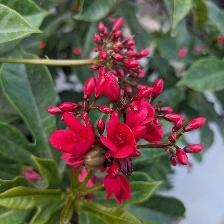jatropha: (49, 110, 96, 162), (102, 116, 139, 165)
